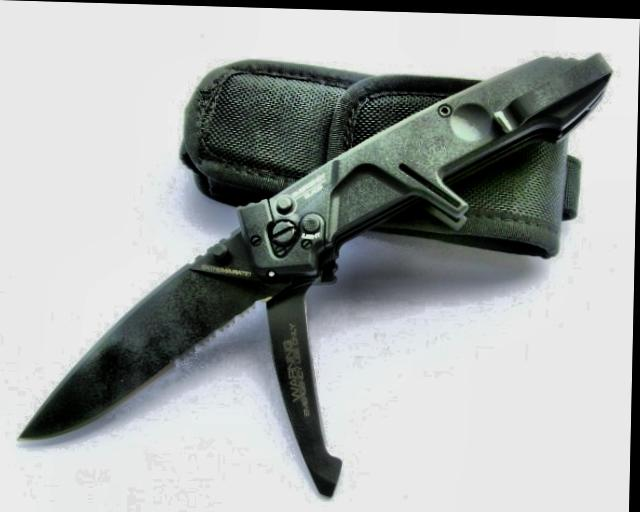knife: (14, 219, 264, 454)
